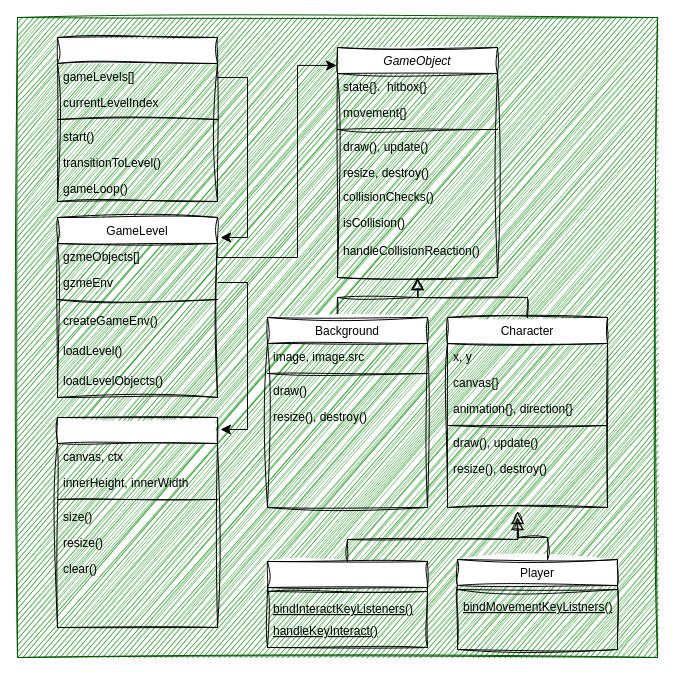
Some shapes in this 675 by 674 pixel diagram are drawn without their labels. The shapes that lost their labels are listed below. From the top down, each one's box as (x1, y1, x2, y2) in pixels, then its label:
(56, 36, 218, 202): GameControl
(56, 416, 218, 628): GameEnv
(266, 560, 428, 648): NPC
